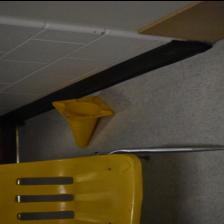cone: (52, 94, 116, 148)
